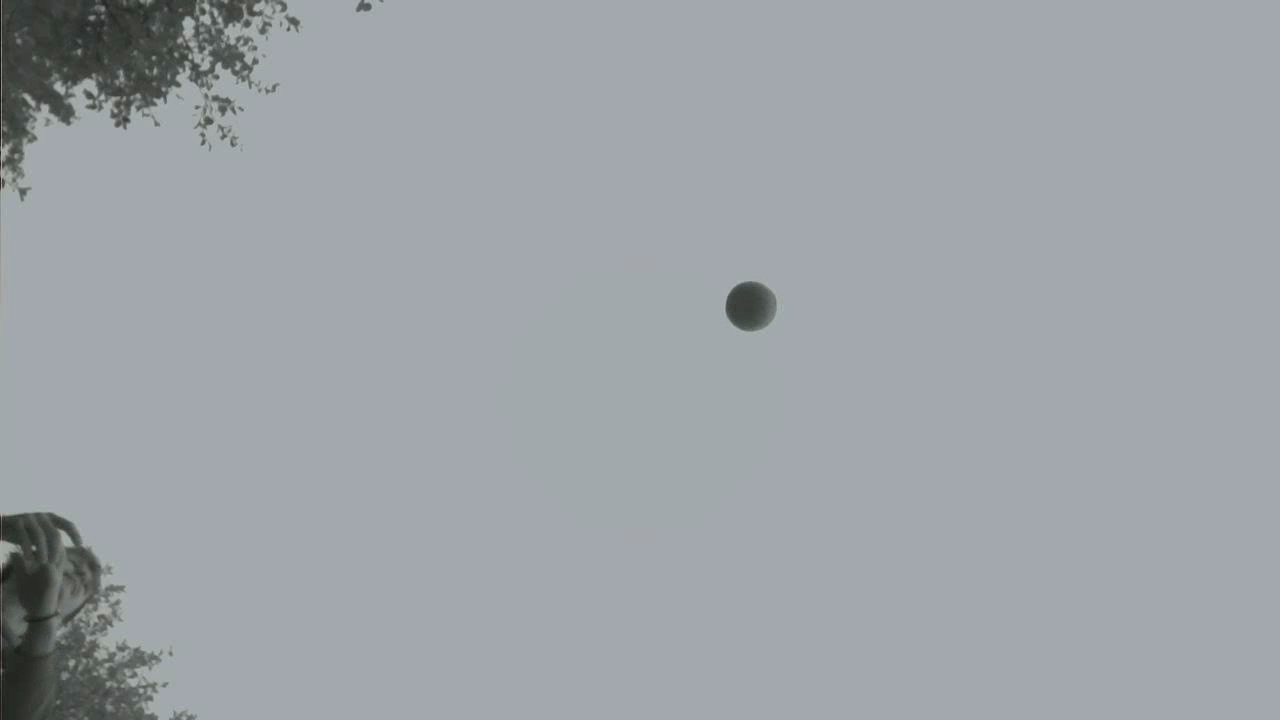Football-Spotter: (726, 281, 775, 330)
